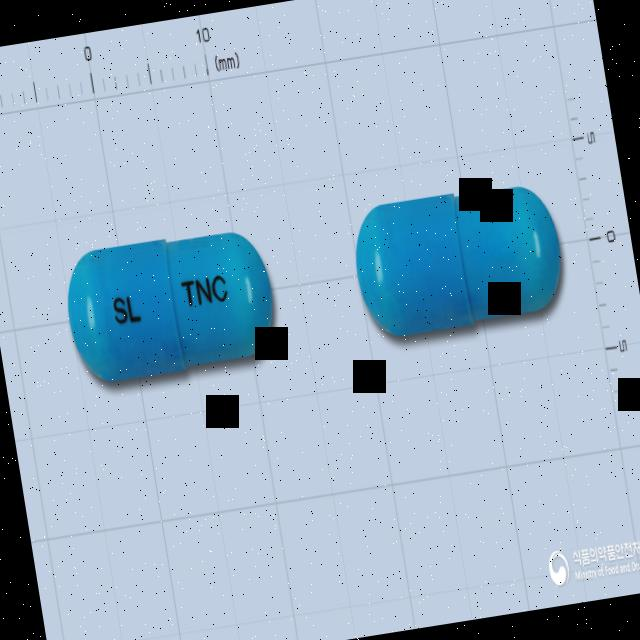Tricyline-N Cap: (59, 220, 284, 390)
